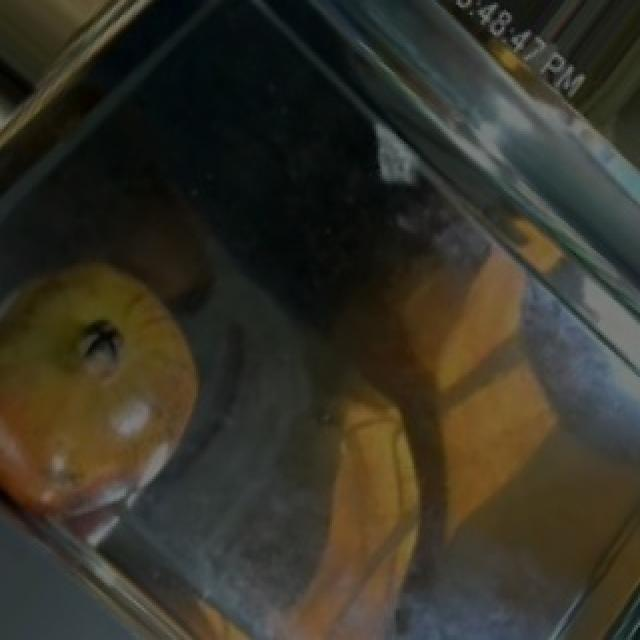fruit: (2, 233, 228, 489)
